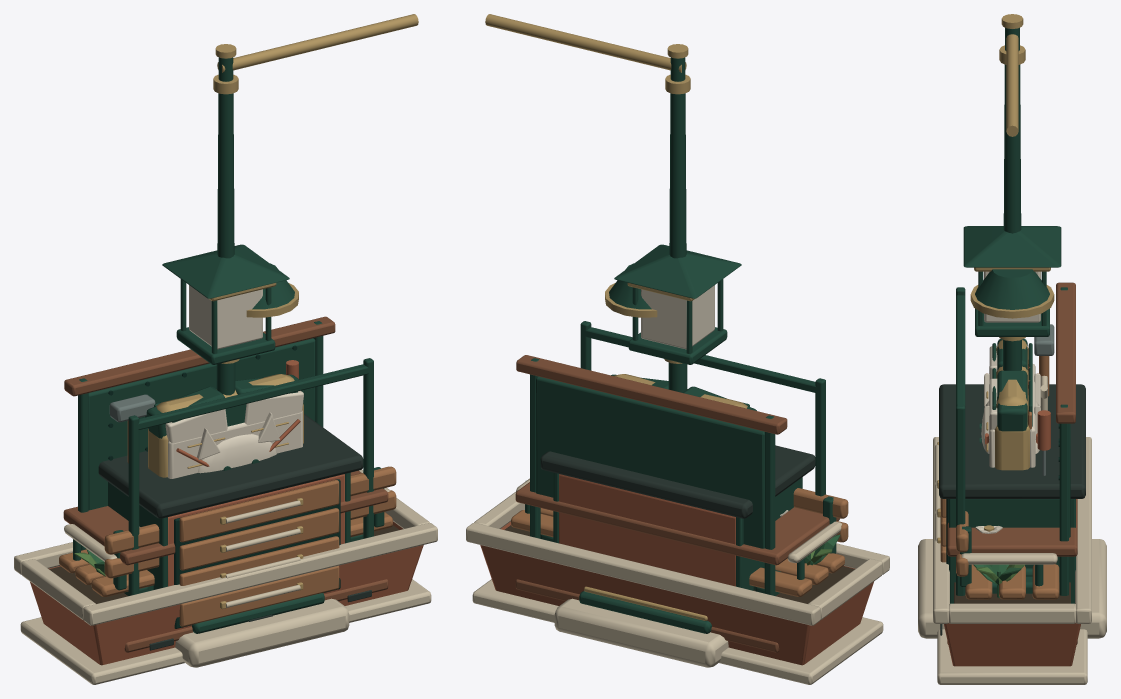
File: refined-props.glb
3 views of the same model, side by side, from view 1: azimuth 30°, elevation 25°; view 2: azimuth 150°, elevation 25°; view 3: azimuth 270°, elevation 25° (orthographic). The views are drawn at different scales.
Visible parts, largest first — view 1: chest, rack, bed, lamp, banner-stand, link-linkedin, bench, link-portfolio, link-github, link-mail, workshop-lamp; view 2: rack, bed, chest, lamp, banner-stand, link-linkedin, bench, link-portfolio, link-github, workshop-lamp; view 3: bed, chest, rack, lamp, banner-stand, bench, link-linkedin, workshop-lamp, link-portfolio, link-mail, link-github.
Boxes of the visible parts, box(x1,y1,x2,y2) form: chest: box(98, 413, 363, 628); rack: box(63, 316, 388, 652); bed: box(14, 498, 437, 684); lamp: box(162, 244, 289, 364); banner-stand: box(213, 14, 418, 395); link-linkedin: box(154, 374, 348, 663); bench: box(59, 466, 396, 596); link-portfolio: box(146, 374, 349, 667); link-github: box(183, 412, 348, 667); link-mail: box(148, 403, 347, 647); workshop-lamp: box(246, 263, 298, 317); rack: box(515, 321, 839, 652); bed: box(466, 480, 889, 684); chest: box(540, 445, 815, 590); lamp: box(614, 244, 741, 364); banner-stand: box(485, 14, 690, 392); link-linkedin: box(555, 374, 749, 663); bench: box(511, 478, 848, 596); link-portfolio: box(554, 374, 756, 667); link-github: box(555, 587, 720, 667); workshop-lamp: box(605, 263, 657, 317); bed: box(933, 437, 1091, 684); chest: box(934, 384, 1085, 603); rack: box(947, 282, 1077, 644); lamp: box(963, 226, 1061, 341); banner-stand: box(999, 14, 1025, 370); bench: box(956, 511, 1059, 599); link-linkedin: box(918, 340, 1106, 634); workshop-lamp: box(970, 269, 1054, 318); link-portfolio: box(919, 339, 1105, 638); link-mail: box(920, 364, 1104, 638); link-github: box(918, 373, 1106, 638).
Size of the model in its own units: 2.57 by 3.85 by 1.13.
